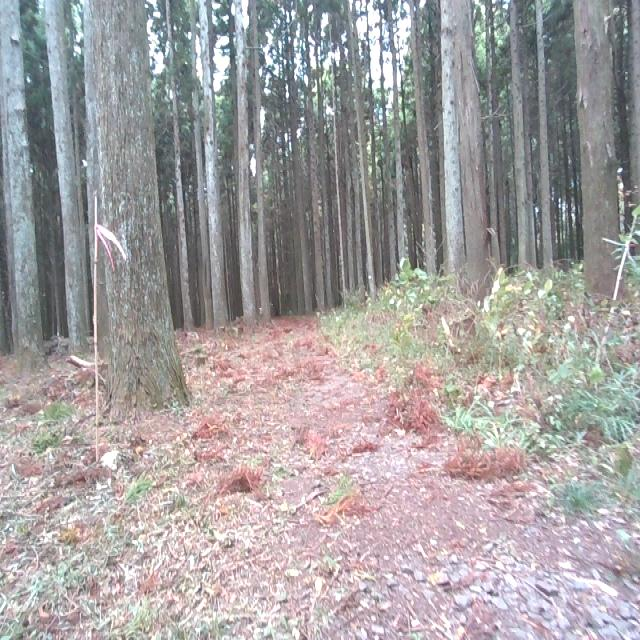bush: (560, 228, 638, 482)
tree: (86, 0, 190, 413), (570, 0, 630, 308), (45, 0, 91, 363), (0, 0, 45, 370), (442, 0, 494, 306)
